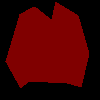abbigliamento_uomo: (5, 1, 89, 88)
